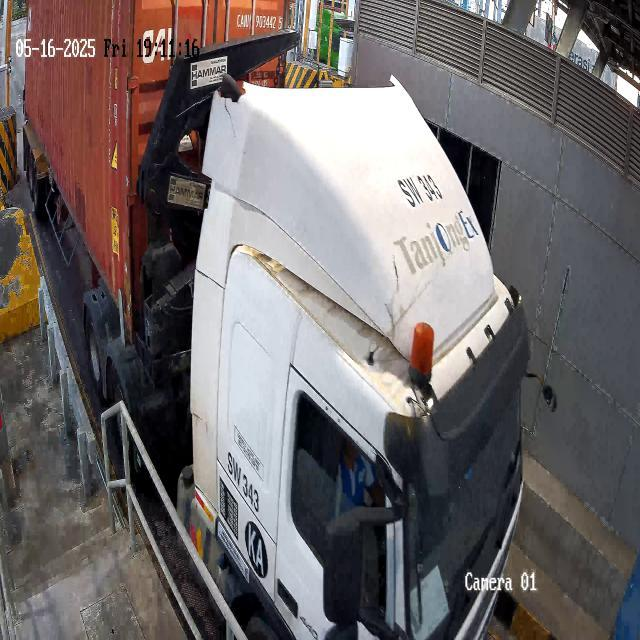container_number: (235, 8, 290, 36)
